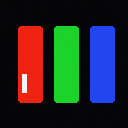4 line_v: (22, 74, 26, 92)
